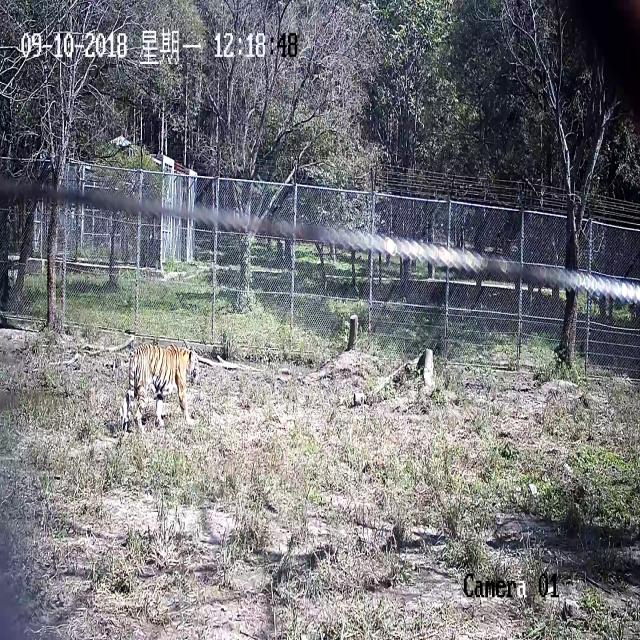Tiger: (94, 302, 243, 467)
